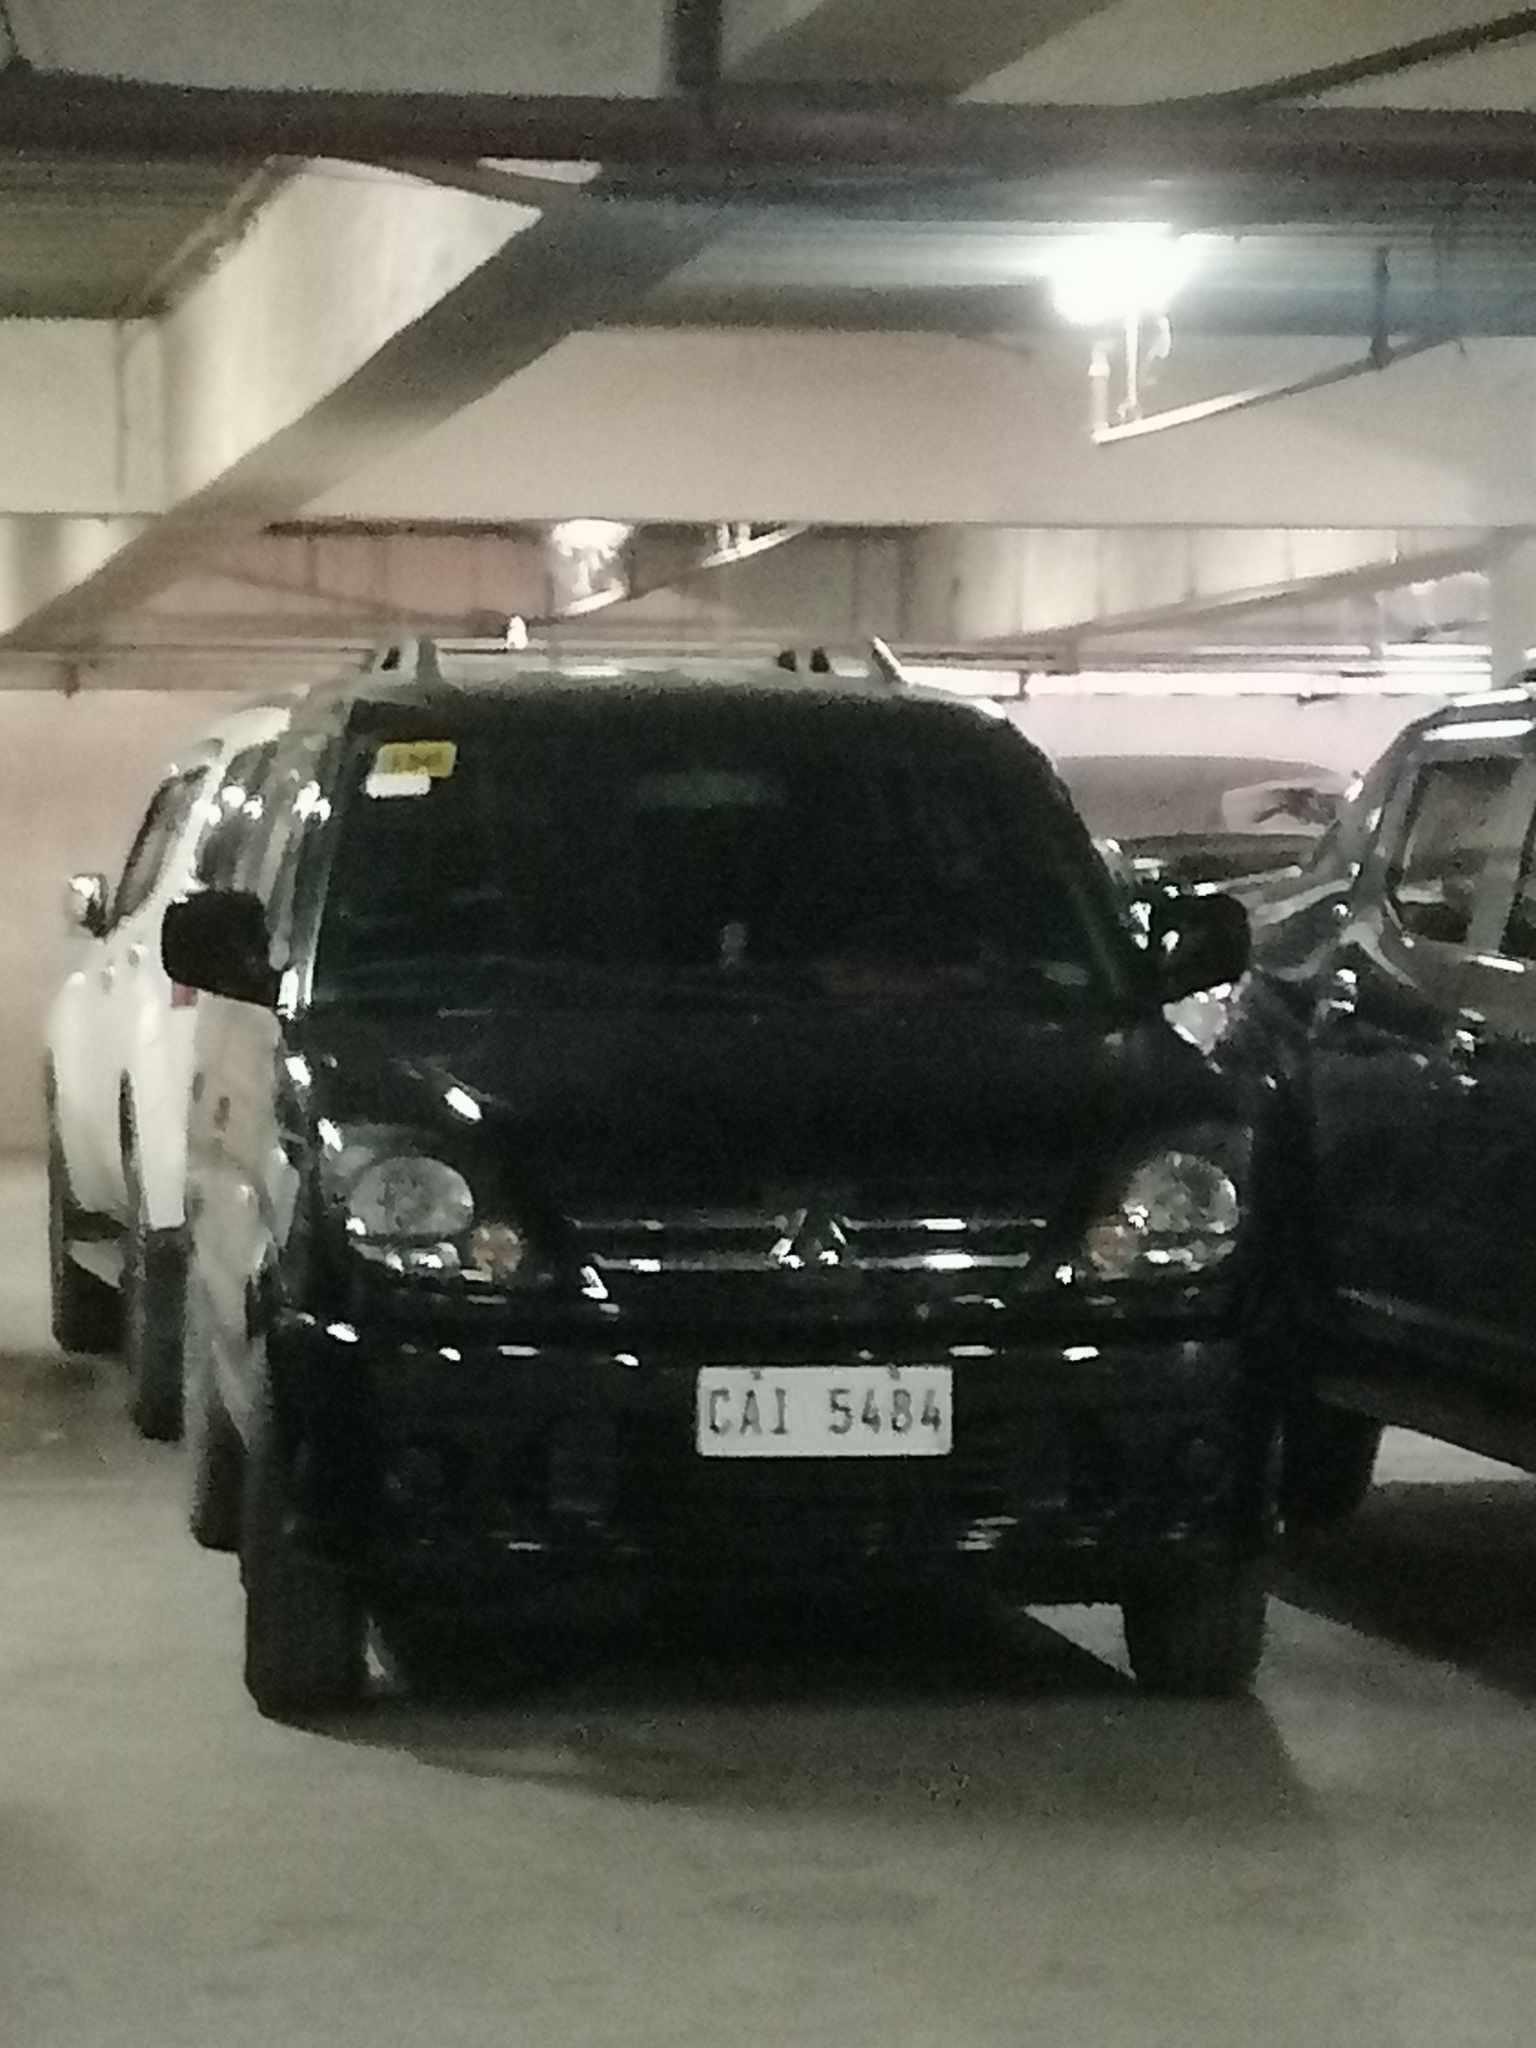license-plate: (693, 1364, 956, 1460)
